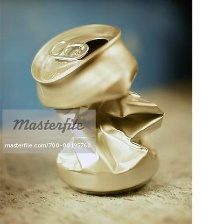can: (28, 20, 167, 198)
